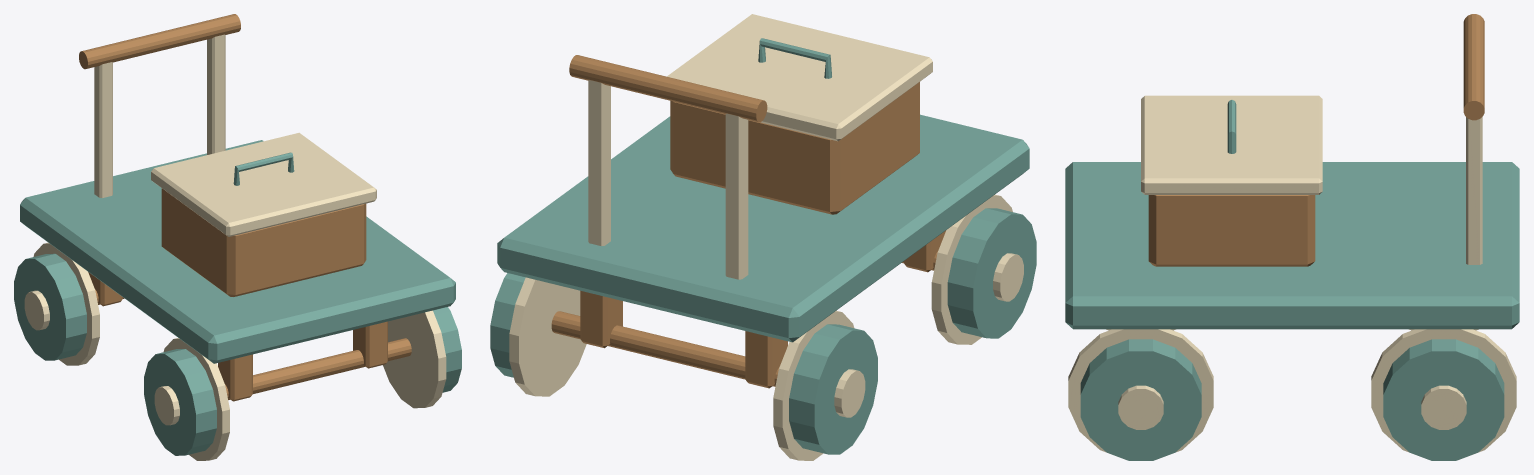
The picture shows the model from 3 angles, left to right: view 1: azimuth 30°, elevation 25°; view 2: azimuth 150°, elevation 25°; view 3: azimuth 270°, elevation 25°; orthographic projection. The views are drawn at different scales.
Visible parts, largest first — view 1: railway-inspection-trolley-01; view 2: railway-inspection-trolley-01; view 3: railway-inspection-trolley-01.
Boxes of the visible parts, left/top/right/bottom form: railway-inspection-trolley-01: left=14, top=14, right=461, bottom=460; railway-inspection-trolley-01: left=490, top=14, right=1036, bottom=460; railway-inspection-trolley-01: left=1065, top=14, right=1519, bottom=460.
Size of the model in its own units: 1.23 by 1.24 by 1.5.
